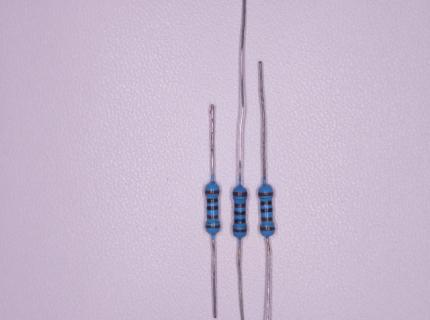Black band: (207, 198, 218, 204), (234, 218, 245, 224), (206, 206, 219, 211), (234, 210, 246, 215), (261, 201, 272, 206), (261, 208, 272, 213)
Brown band: (259, 191, 274, 197), (233, 191, 247, 197), (205, 224, 220, 229), (232, 228, 247, 233), (260, 226, 275, 231), (261, 216, 273, 222), (234, 203, 246, 208), (205, 190, 219, 194), (207, 215, 218, 219)
